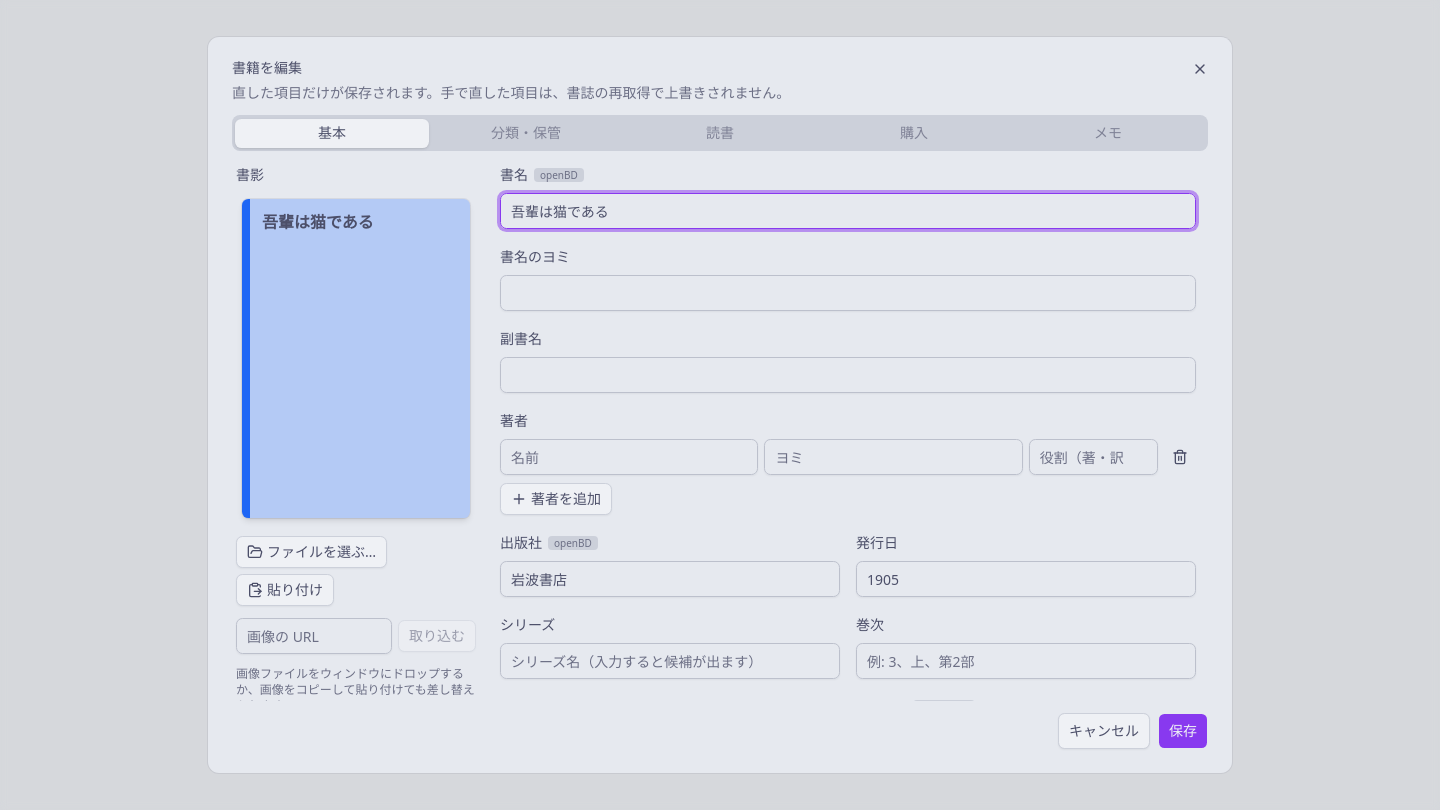
Test: 登録・編集フォーム › edit › サーバーの検証エラー（validation）を、その項目に表示する
Expected: the field labelled "書名" is shown, [500,193,1196,229]
Replace the text in the field labelled "発行日" with "2026-10" at (1026, 579), box [856,561,1196,597]
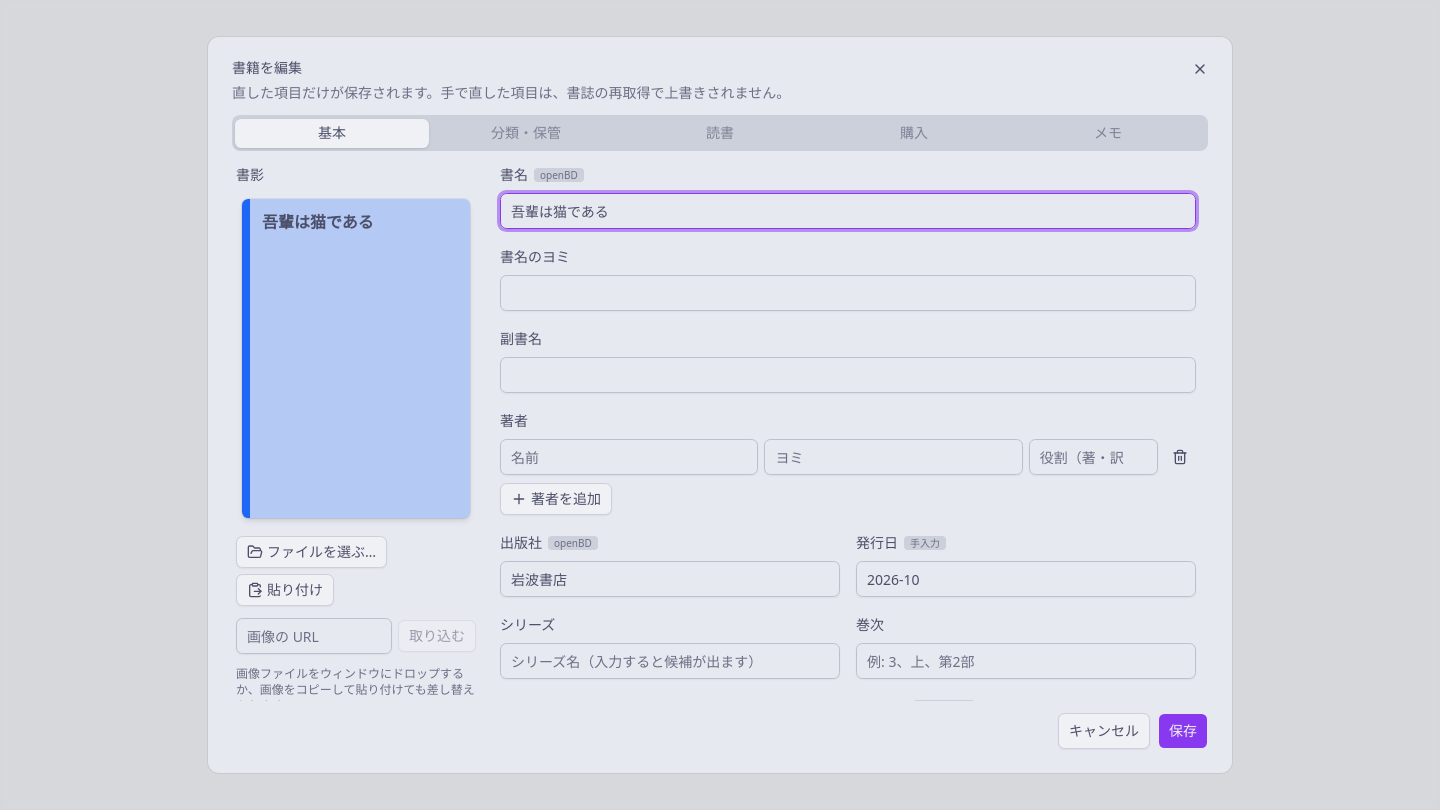
Click the button "保存" at (1183, 731), box [1158,713,1208,749]
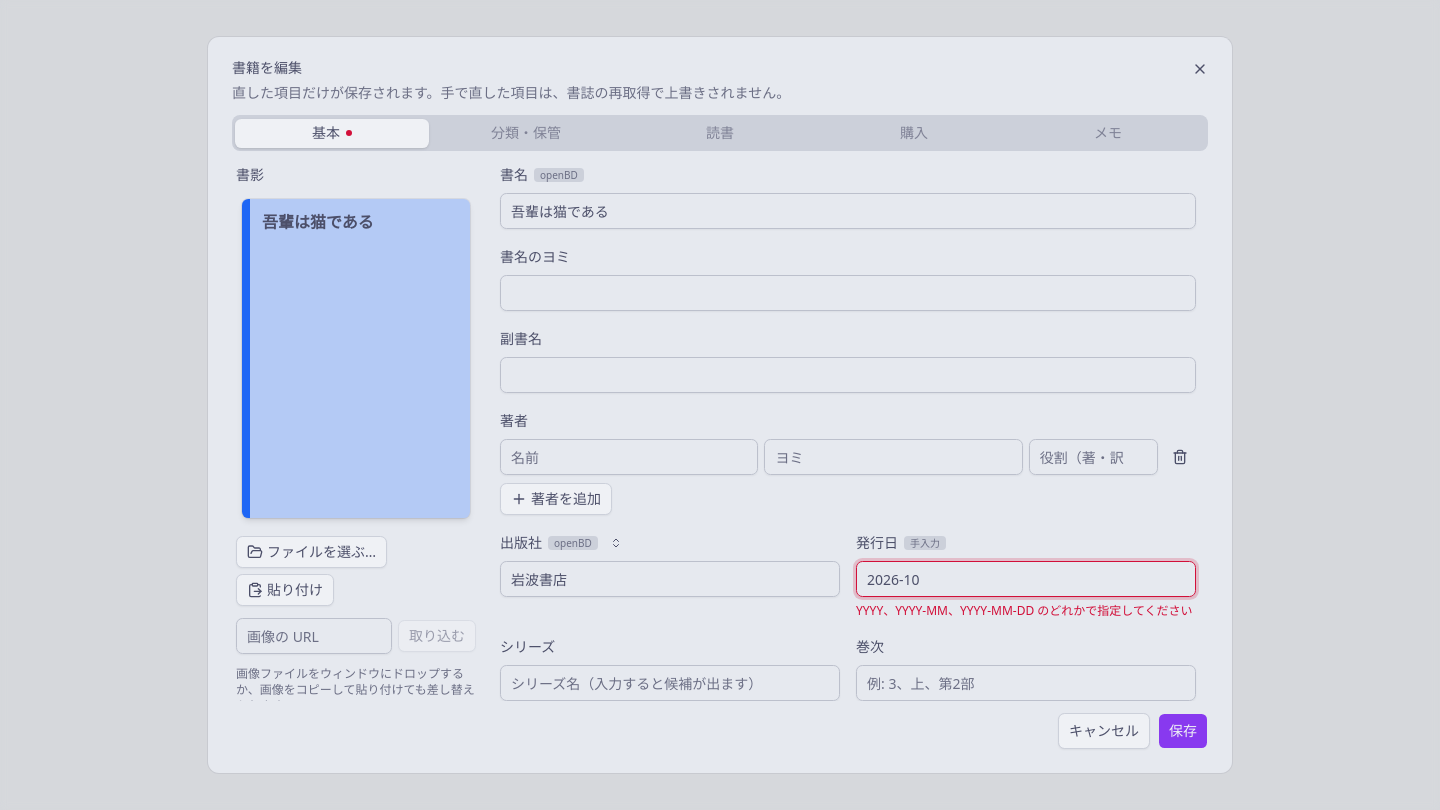
Expected: the message reads "YYYY、YYYY-MM、YYYY-MM-DD のどれかで指定してください", [856,602,1193,619]
